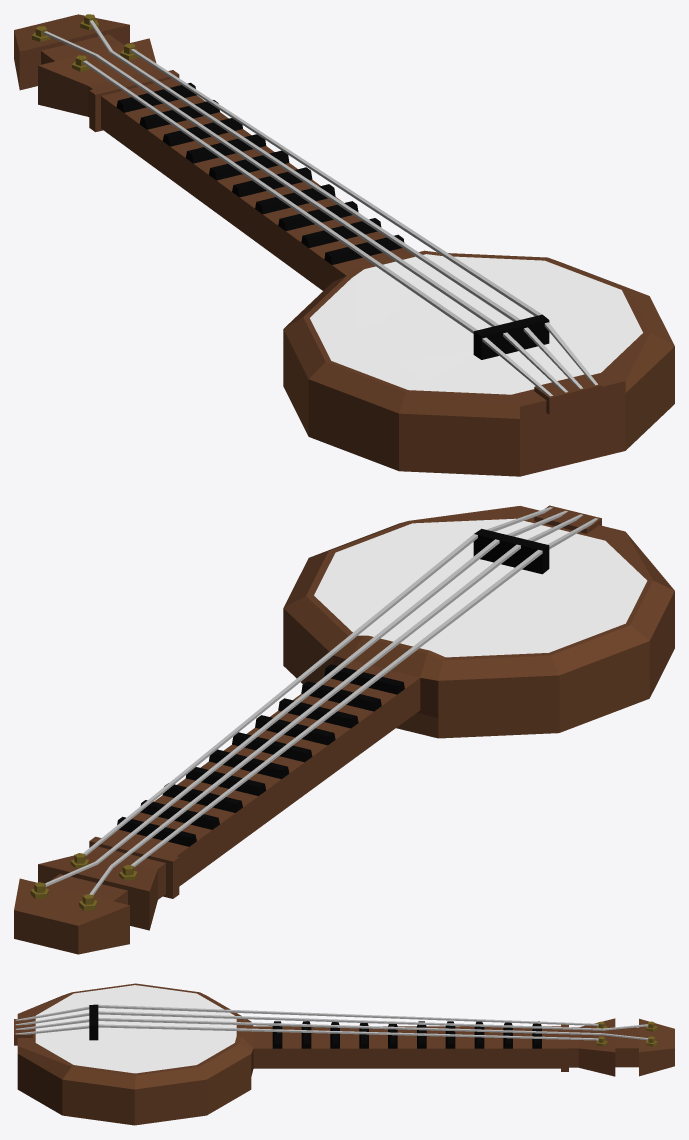
The model's file is Banjo.obj.
The picture shows the model from 3 angles, top to bottom: view 1: azimuth 30°, elevation 25°; view 2: azimuth 150°, elevation 25°; view 3: azimuth 270°, elevation 25°; orthographic projection. The views are drawn at different scales.
Parts seen in each view (by area): view 1: Banjo; view 2: Banjo; view 3: Banjo.
Part boxes in pixels (<box>): Banjo: <box>14,14,674,476</box>; Banjo: <box>14,505,674,954</box>; Banjo: <box>14,983,674,1125</box>.
Size of the model in its own units: 0.2576 by 0.0675 by 0.6929.
